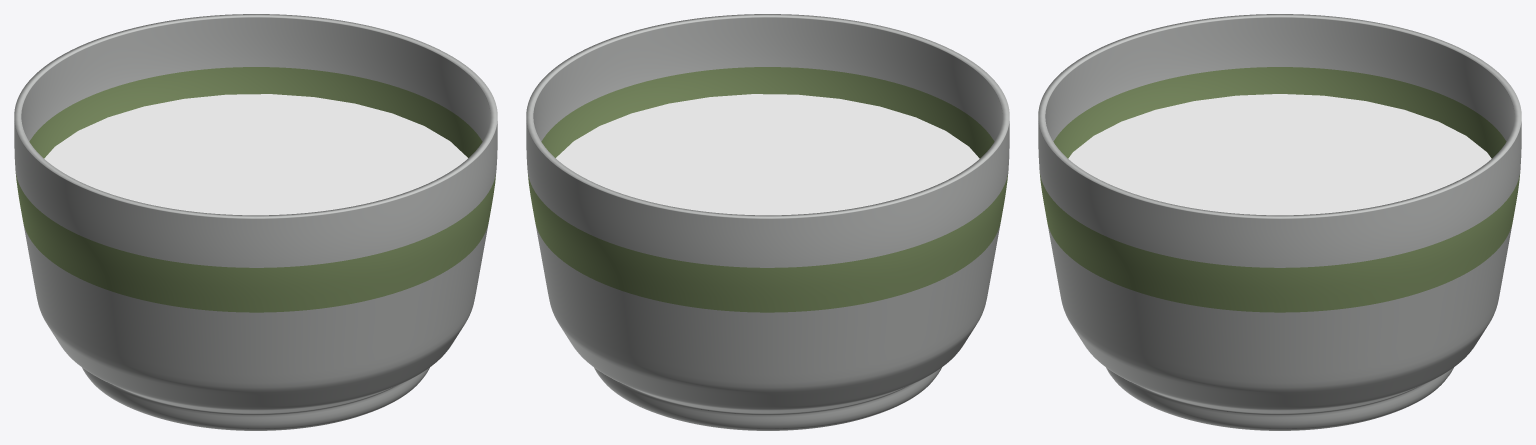
The model's file is santan.fbx.
3 renders of one model, left to right at view 1: azimuth 30°, elevation 25°; view 2: azimuth 150°, elevation 25°; view 3: azimuth 270°, elevation 25°, orthographic.
Parts seen in each view (by area): view 1: bowl, santan.001; view 2: bowl, santan.001; view 3: bowl, santan.001.
Boxes of the visible parts, x1,y1,x2,y2 form: bowl: (14,14,497,430); santan.001: (44,94,467,215); bowl: (526,14,1009,430); santan.001: (556,94,979,215); bowl: (1038,14,1521,430); santan.001: (1068,94,1491,215).
Size of the model in its own units: 46.11 by 25.69 by 46.11.
